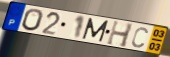1: (73, 15, 85, 40)
2: (40, 11, 63, 36)
C: (131, 26, 150, 49)
H: (105, 20, 135, 49)
M: (81, 17, 110, 43)
O: (21, 8, 45, 32)
